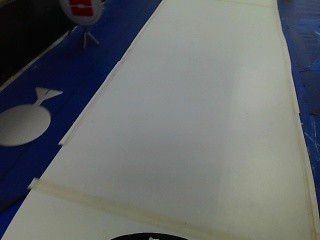company: (52, 0, 104, 26)
